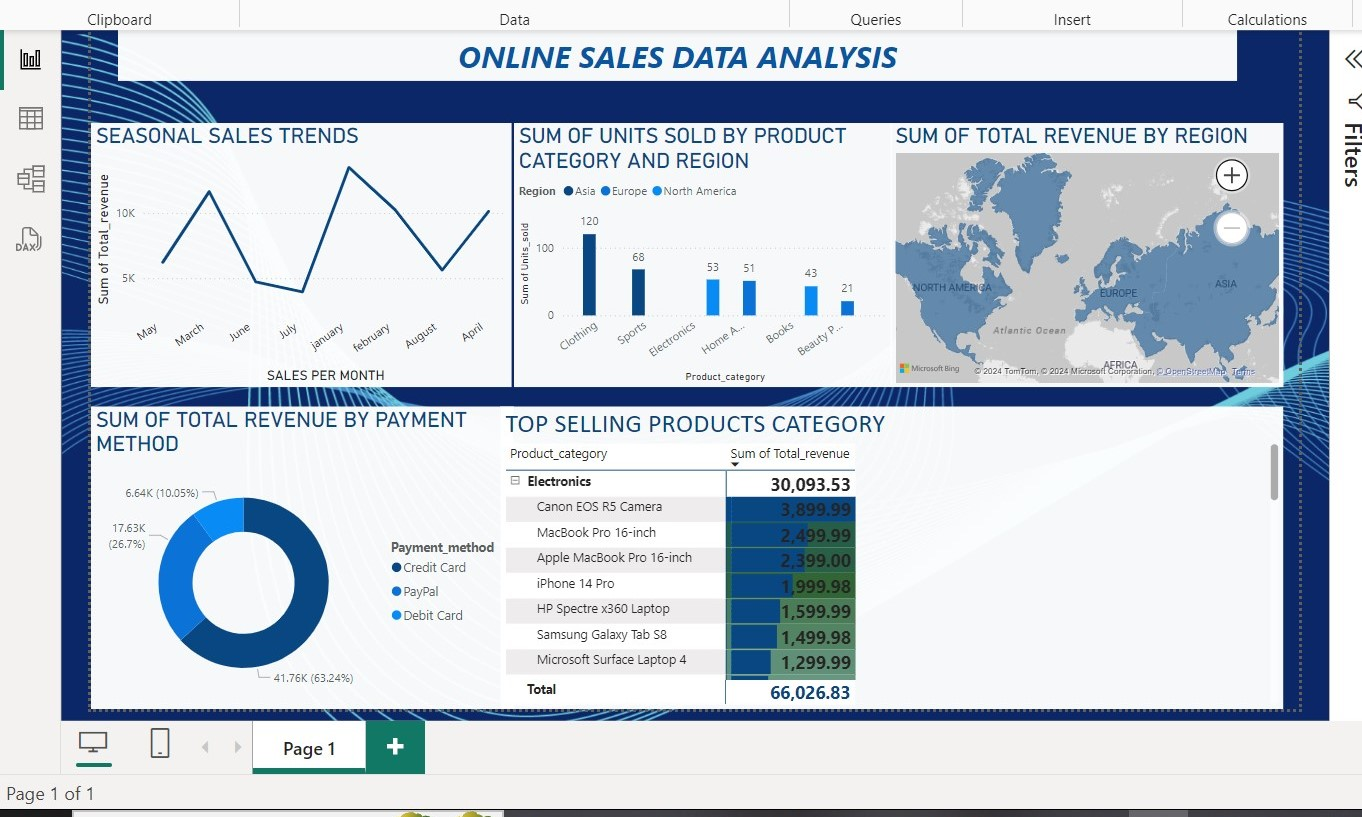

The page's visual inventory and layout, read from the dashboard file:
{"tool":"powerbi","page":{"name":"Page 1","canvas":[1280,720],"ordinal":0},"visuals":[{"type":"lineChart","title":"SEASONAL SALES TRENDS","fields":{"Category":["view_onlinestore.Month"],"Y":["Sum(view_onlinestore.Total_revenue)"]},"box":[0,98.3,446,279.7],"z":0},{"type":"clusteredColumnChart","title":"SUM OF UNITS SOLD BY PRODUCT CATEGORY AND REGION","fields":{"Series":["view_onlinestore.Region"],"Category":["view_onlinestore.Product_category"],"Y":["Sum(view_onlinestore.Units_sold)"]},"box":[447.9,98.3,400.6,279.7],"z":1000},{"type":"donutChart","title":"SUM OF TOTAL REVENUE BY PAYMENT METHOD","fields":{"Y":["Sum(view_onlinestore.Total_revenue)"],"Category":["view_onlinestore.Payment_method"]},"box":[0,398.7,447.9,321.3],"z":2000},{"type":"pivotTable","title":"TOP SELLING PRODUCTS  CATEGORY","fields":{"Rows":["view_onlinestore.Product_category","view_onlinestore.Product_name"],"Values":["Sum(view_onlinestore.Total_revenue)"]},"box":[434.2,399.2,830.3,321.3],"z":3000},{"type":"filledMap","title":"SUM OF TOTAL REVENUE BY REGION","fields":{"Category":["view_onlinestore.Region"]},"box":[847.8,98.6,416.7,279.9],"z":4000},{"type":"textbox","box":[28.6,0,1186.6,54.1],"z":6000}]}

Visuals, with their boxes on the page's 1280x720 design canvas (x1, y1, x2, y2). These are canvas units, not pixel positions in the 1362x817 screenshot, which may show the page scaled, cropped or inside an application window:
"SEASONAL SALES TRENDS" lineChart: x1=0 y1=98 x2=446 y2=378
"SUM OF UNITS SOLD BY PRODUCT CATEGORY AND REGION" clusteredColumnChart: x1=448 y1=98 x2=848 y2=378
"SUM OF TOTAL REVENUE BY PAYMENT METHOD" donutChart: x1=0 y1=399 x2=448 y2=720
"TOP SELLING PRODUCTS  CATEGORY" pivotTable: x1=434 y1=399 x2=1264 y2=720
"SUM OF TOTAL REVENUE BY REGION" filledMap: x1=848 y1=99 x2=1264 y2=378
textbox: x1=29 y1=0 x2=1215 y2=54
